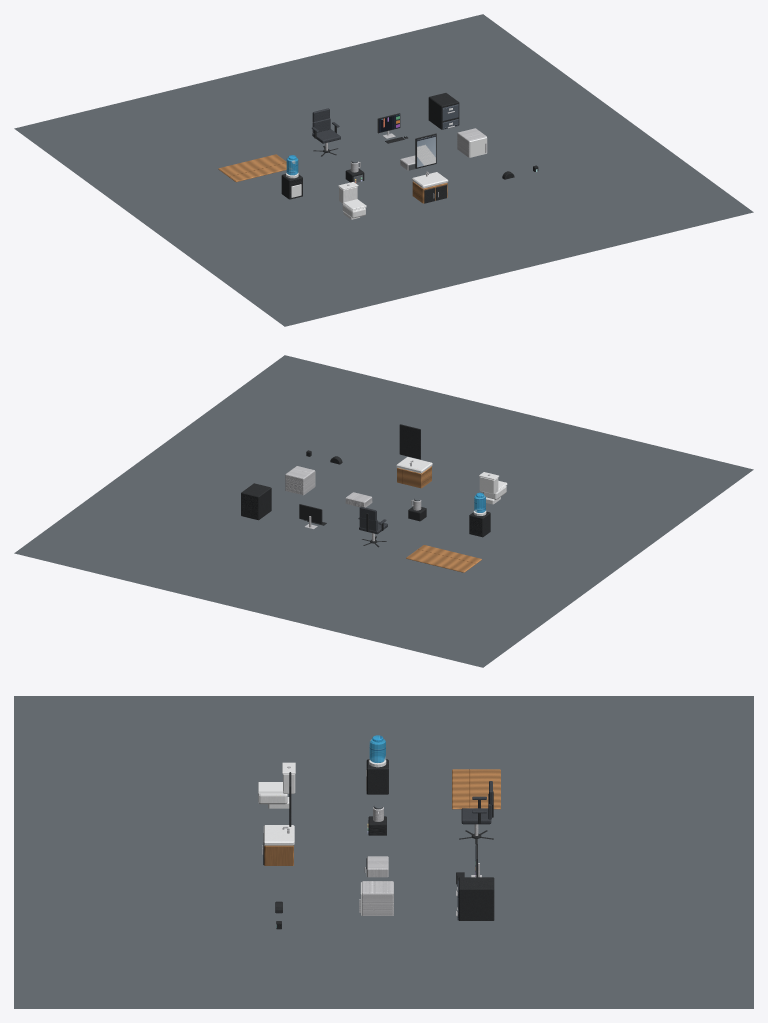
File: Office_Assets_All_Combined.fbx
3 renders of one model, top to bottom at view 1: azimuth 30°, elevation 25°; view 2: azimuth 150°, elevation 25°; view 3: azimuth 270°, elevation 25°, orthographic. The views are drawn at different scales.
Parts seen in each view (by area): view 1: Showroom_Floor, 10_Lavamanos_Mueble, 01_Escritorio_Oficina, 04_Archivador_Metalico, 02_Silla_Ejecutiva, 05_Dispensador_Agua, 08_Frigobar_Oficina, 09_Inodoro_Bano; view 2: Showroom_Floor, 10_Lavamanos_Mueble, 01_Escritorio_Oficina, 04_Archivador_Metalico, 08_Frigobar_Oficina, 05_Dispensador_Agua, 09_Inodoro_Bano, 02_Silla_Ejecutiva; view 3: Showroom_Floor, 01_Escritorio_Oficina, 04_Archivador_Metalico, 10_Lavamanos_Mueble, 08_Frigobar_Oficina, 05_Dispensador_Agua, 09_Inodoro_Bano, 02_Silla_Ejecutiva.
Boxes of the visible parts, <box> form: Showroom_Floor: <box>14,14,753,326</box>; 10_Lavamanos_Mueble: <box>412,133,448,203</box>; 01_Escritorio_Oficina: <box>218,154,286,182</box>; 04_Archivador_Metalico: <box>428,93,459,129</box>; 02_Silla_Ejecutiva: <box>311,108,340,156</box>; 05_Dispensador_Agua: <box>281,155,302,199</box>; 08_Frigobar_Oficina: <box>457,128,487,157</box>; 09_Inodoro_Bano: <box>338,182,366,219</box>; Showroom_Floor: <box>14,355,753,667</box>; 10_Lavamanos_Mueble: <box>396,424,432,488</box>; 01_Escritorio_Oficina: <box>406,545,481,572</box>; 04_Archivador_Metalico: <box>241,483,271,520</box>; 08_Frigobar_Oficina: <box>285,466,315,495</box>; 05_Dispensador_Agua: <box>469,492,490,537</box>; 09_Inodoro_Bano: <box>479,472,507,504</box>; 02_Silla_Ejecutiva: <box>358,506,387,547</box>; Showroom_Floor: <box>14,696,753,1008</box>; 01_Escritorio_Oficina: <box>452,769,500,809</box>; 04_Archivador_Metalico: <box>456,877,494,920</box>; 10_Lavamanos_Mueble: <box>262,772,294,865</box>; 08_Frigobar_Oficina: <box>359,881,393,915</box>; 05_Dispensador_Agua: <box>366,735,388,794</box>; 09_Inodoro_Bano: <box>258,762,295,808</box>; 02_Silla_Ejecutiva: <box>459,781,493,844</box>.
Bounding box in the file's own units: 12 × 2.14 × 12.
